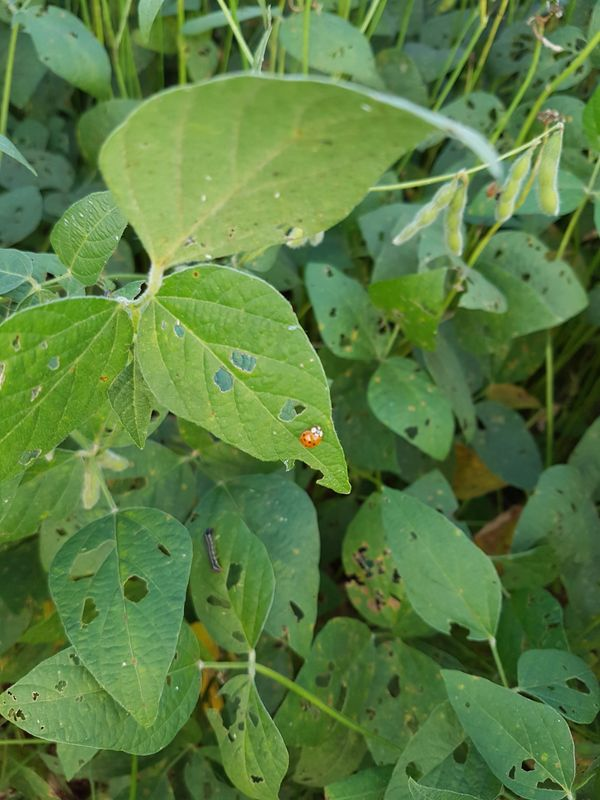Coccinellidae: (290, 418, 330, 455)
Spodoptera_albula: (191, 525, 228, 580)
